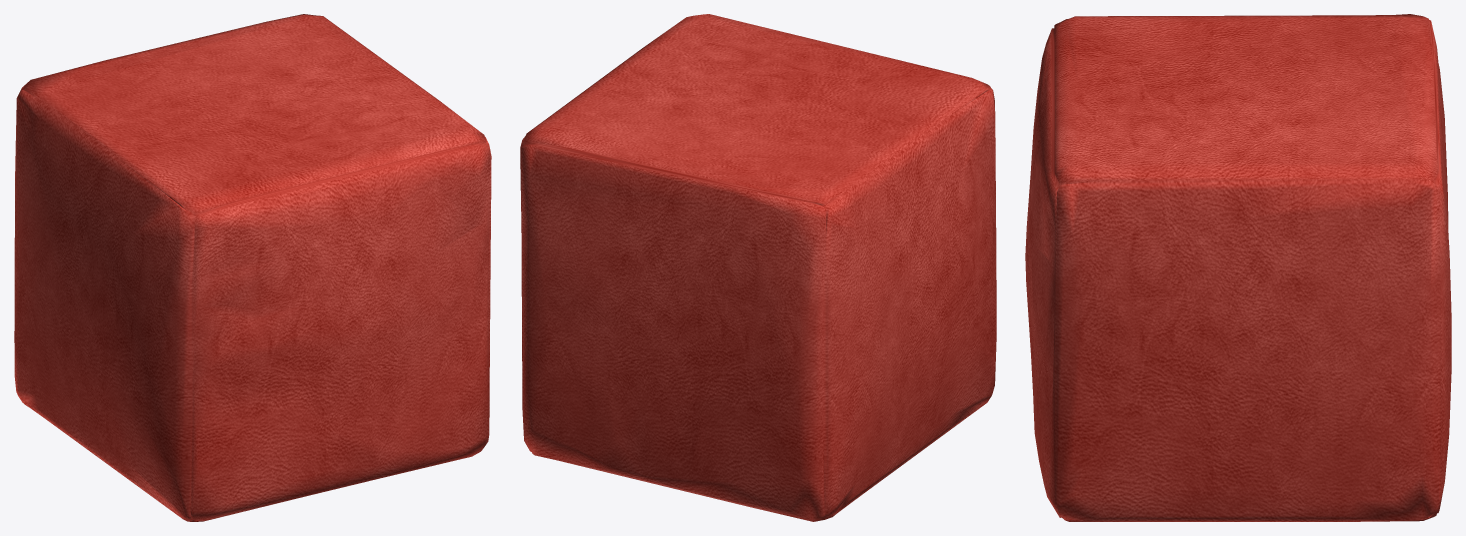
The picture shows the model from 3 angles, left to right: view 1: azimuth 30°, elevation 25°; view 2: azimuth 150°, elevation 25°; view 3: azimuth 270°, elevation 25°; orthographic projection. The views are drawn at different scales.
Visible parts, largest first — view 1: box 1; view 2: box 1; view 3: box 1.
Boxes of the visible parts, x1=… form: box 1: x1=14, y1=14, x2=491, y2=521; box 1: x1=520, y1=14, x2=996, y2=521; box 1: x1=1025, y1=14, x2=1451, y2=521.
Bounding box in the file's own units: 11.5 × 10.73 × 11.68.
